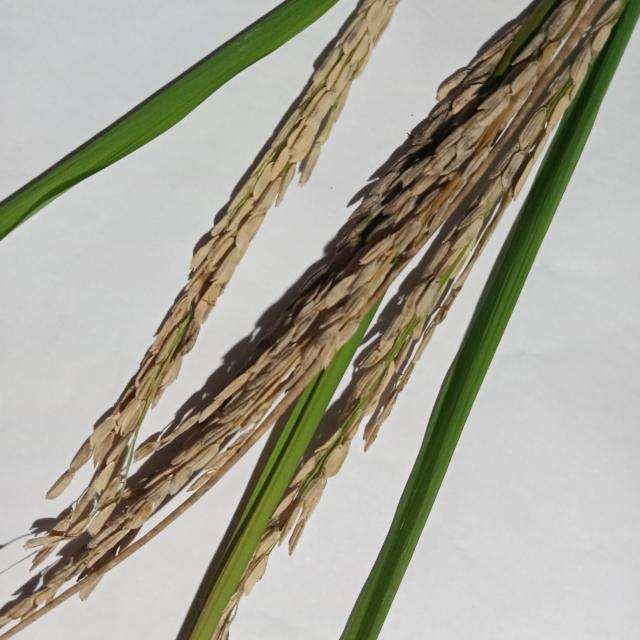Neck_Blast: (0, 0, 634, 640), (60, 0, 394, 493)
